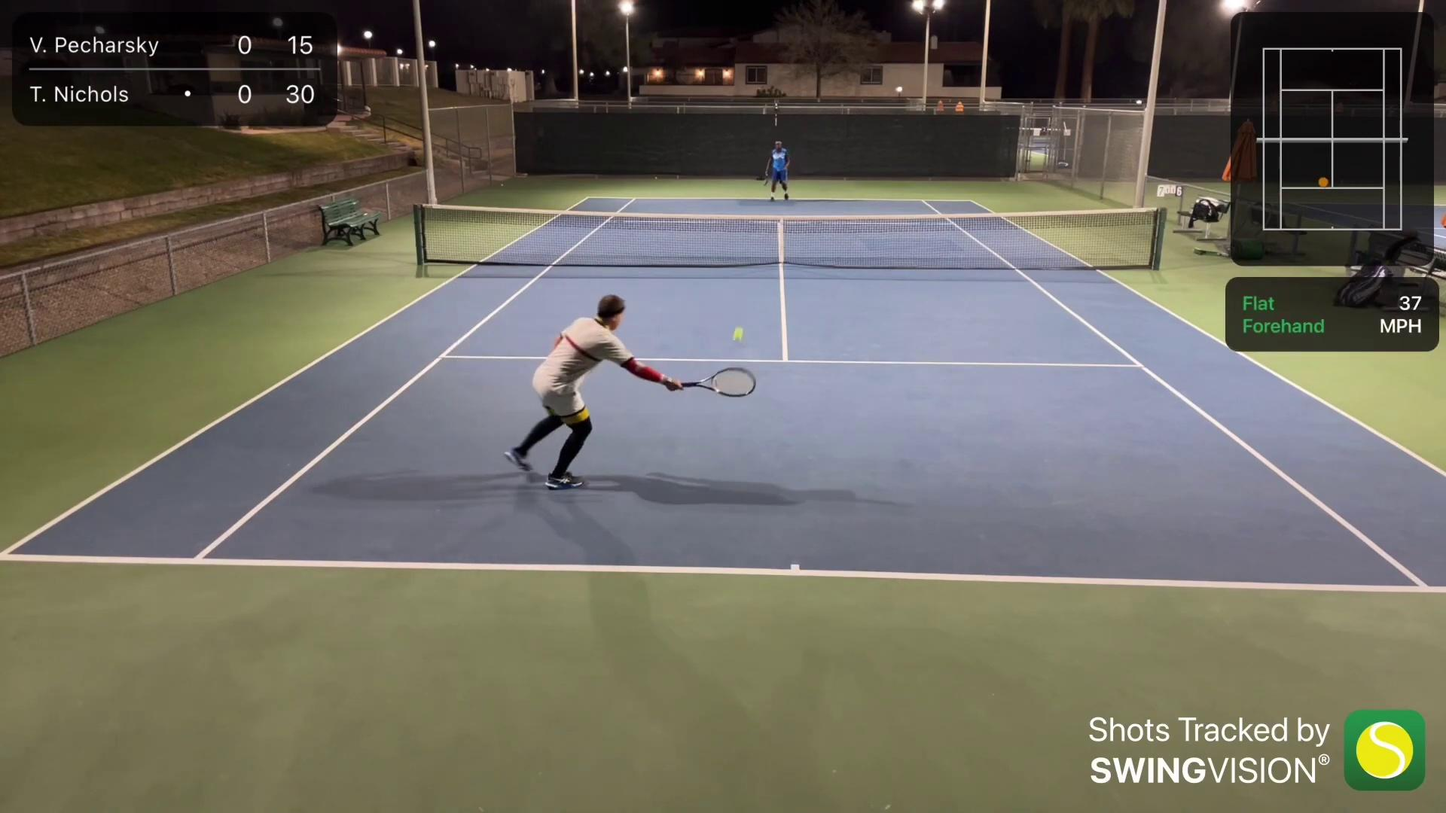ball: (732, 327, 746, 343)
